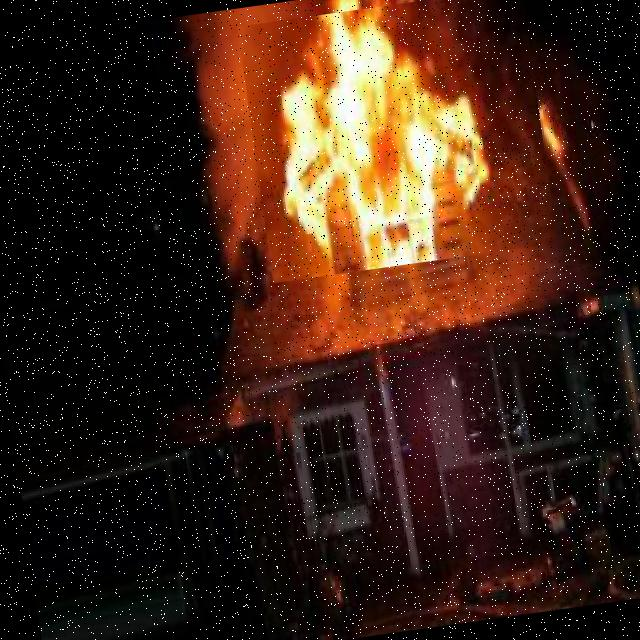fire: (237, 0, 557, 283)
